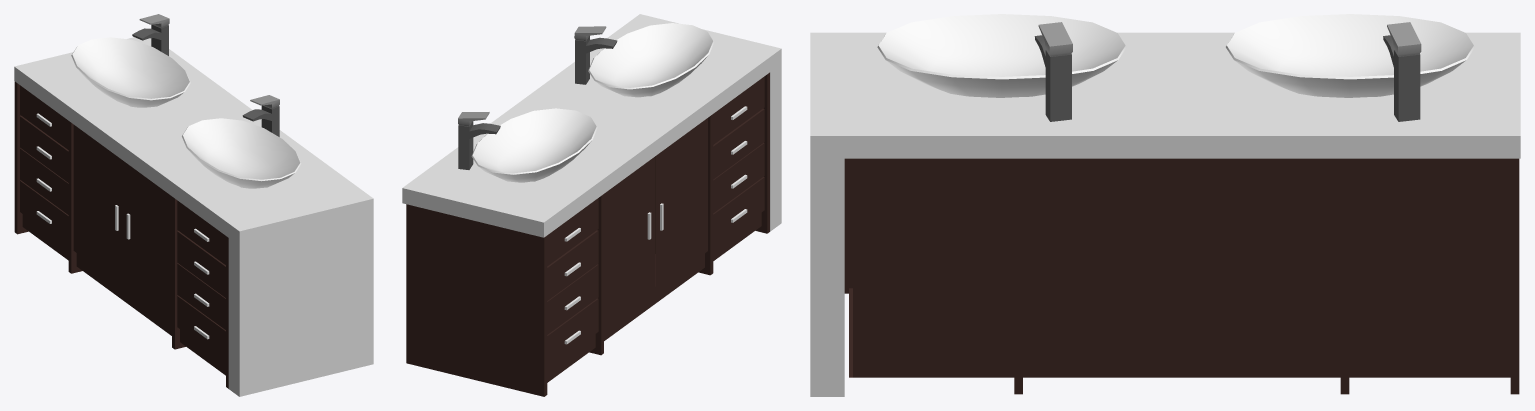
The model's file is basin.glb.
The picture shows the model from 3 angles, left to right: view 1: azimuth 30°, elevation 25°; view 2: azimuth 150°, elevation 25°; view 3: azimuth 270°, elevation 25°; orthographic projection. The views are drawn at different scales.
Parts seen in each view (by area): view 1: basin; view 2: basin; view 3: basin.
Part boxes in pixels (left/top/right/bottom): basin: left=14, top=14, right=373, bottom=396; basin: left=402, top=14, right=781, bottom=396; basin: left=810, top=14, right=1520, bottom=396.
Size of the model in its own units: 0.6991 by 1.08 by 2.03.
1 material, 1 textured.
